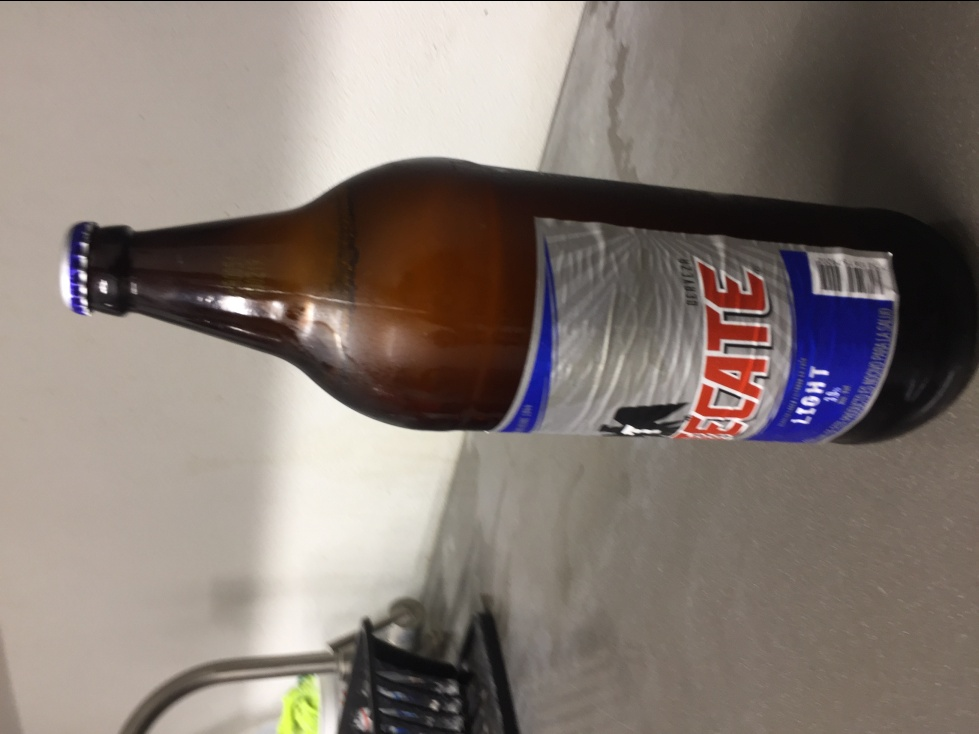tecateC: (62, 156, 977, 450)
